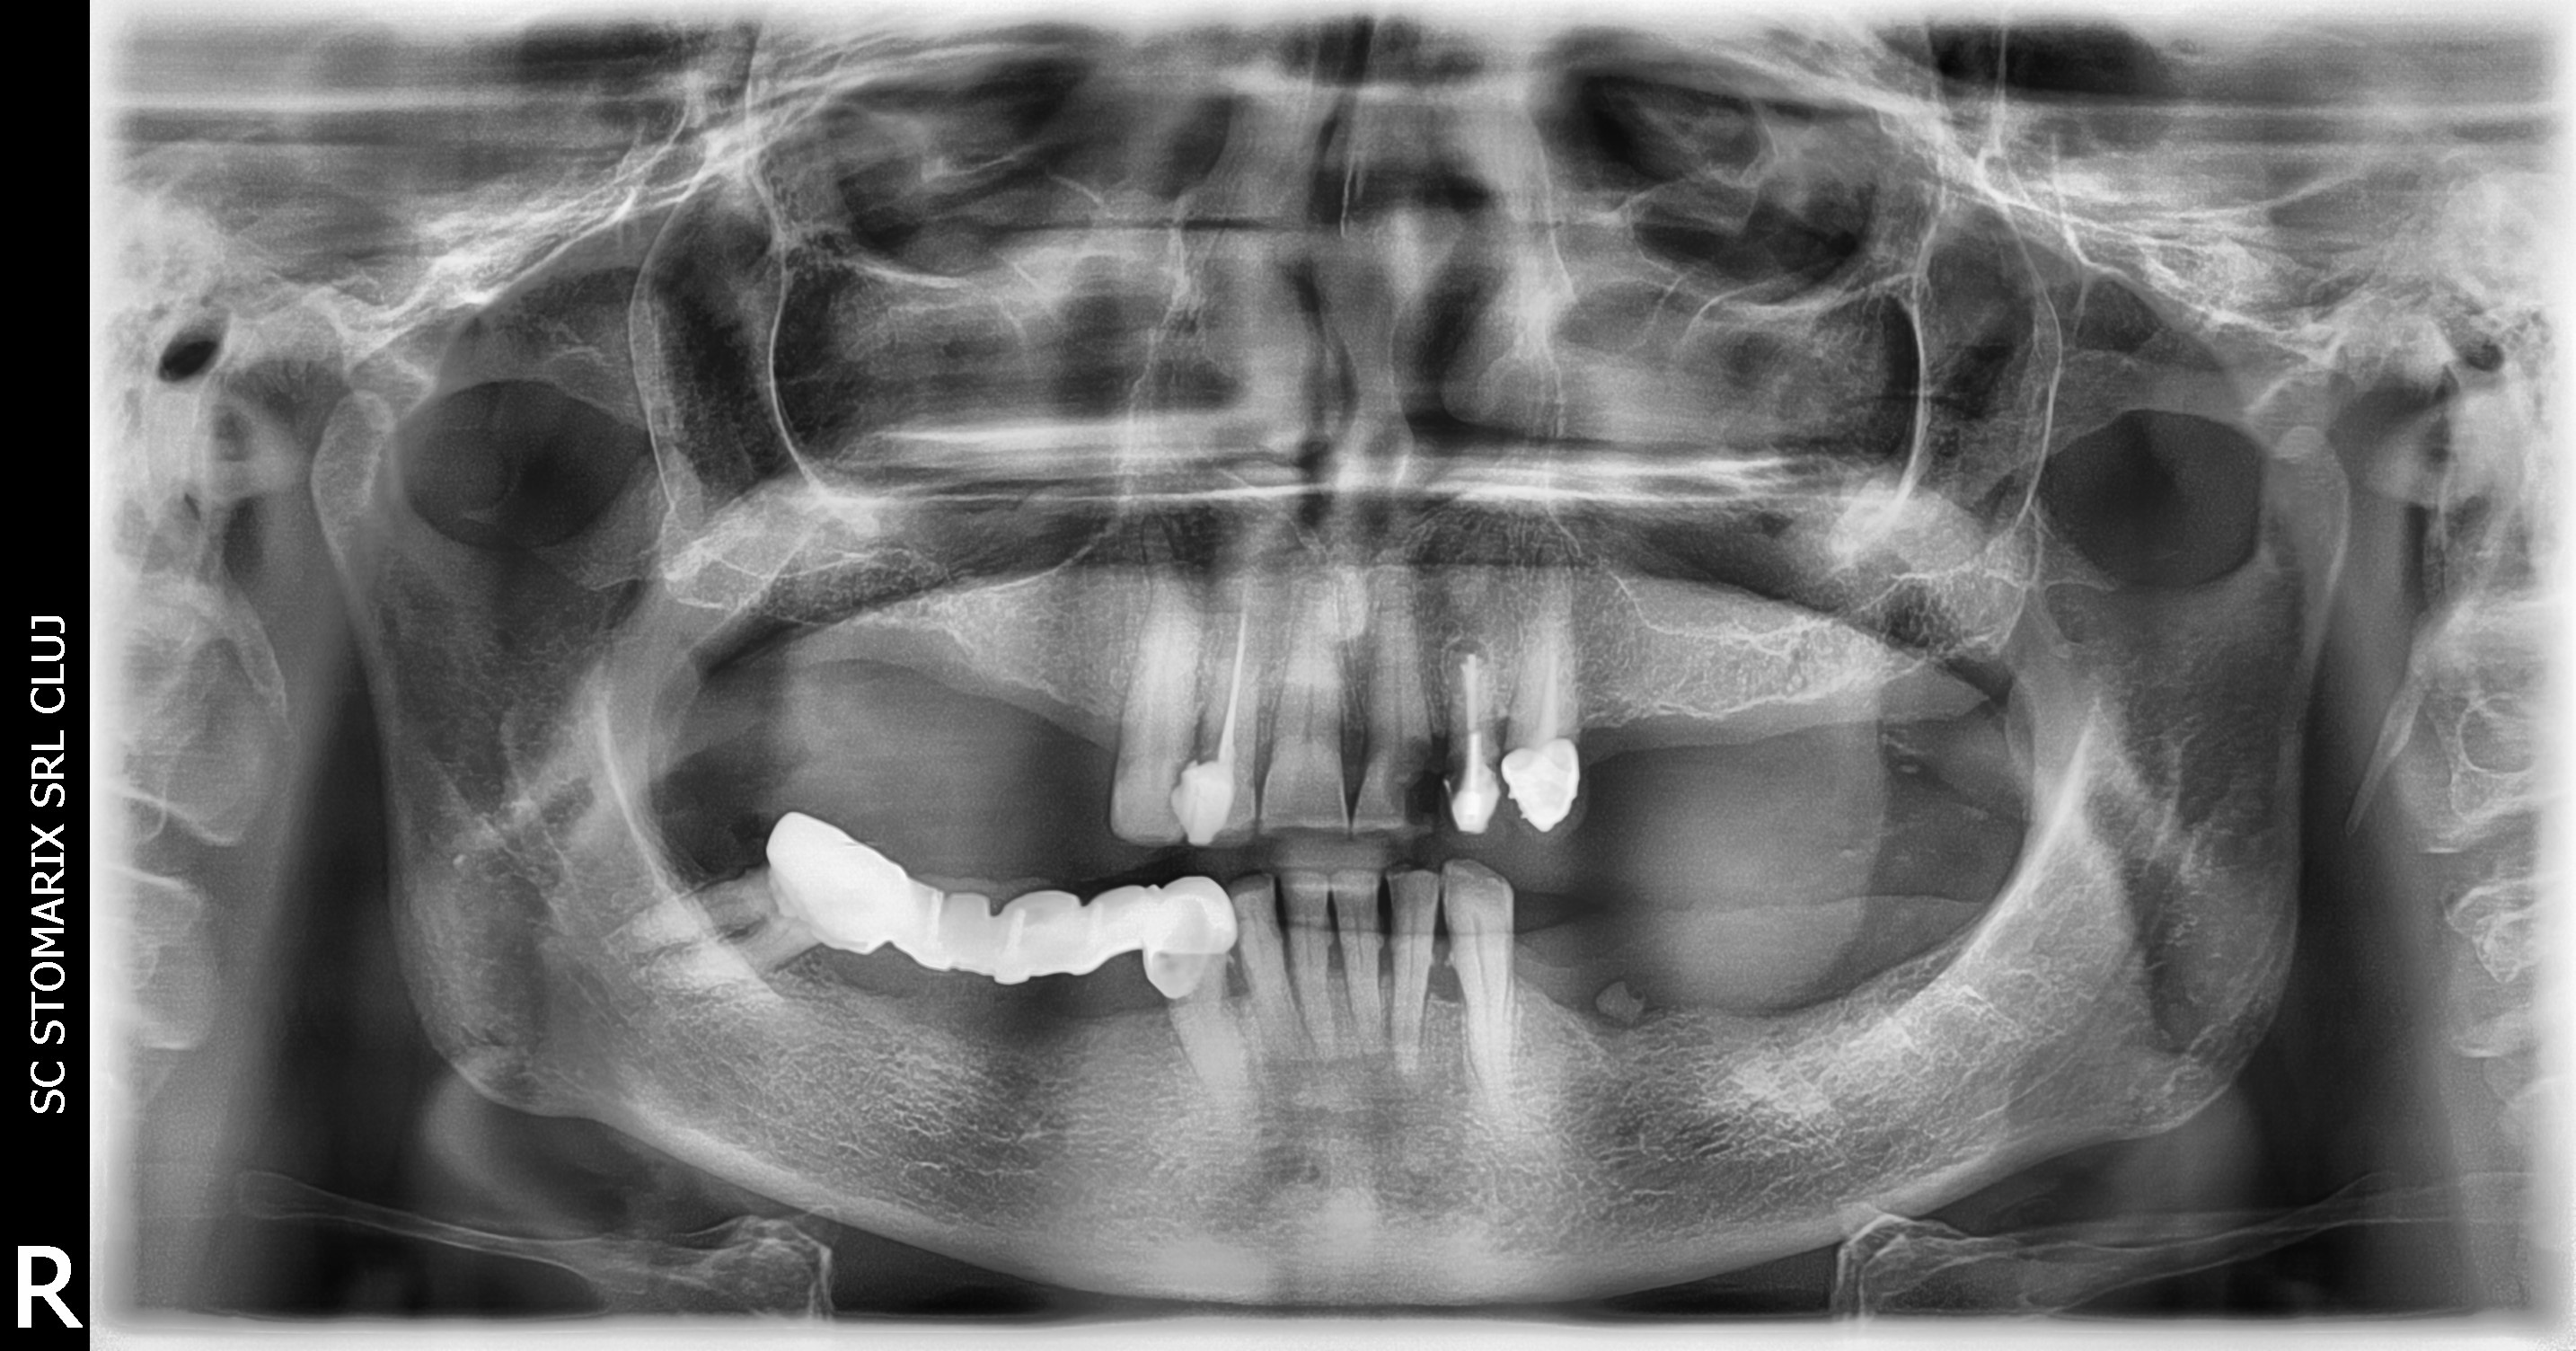APS: (1428, 620, 1509, 683)
BON: (1417, 923, 1481, 1032), (1269, 928, 1310, 1031), (1314, 927, 1358, 1007), (1365, 920, 1400, 1000), (1228, 935, 1249, 1039)
CAR: (1361, 738, 1453, 828), (1423, 755, 1489, 804)
END: (1186, 572, 1264, 767), (1520, 559, 1581, 729), (1450, 649, 1499, 755)
FUR: (673, 900, 794, 961)
OBT: (1150, 746, 1245, 850)
PRR: (743, 782, 1244, 1029), (1499, 739, 1607, 859), (1443, 768, 1508, 859)
ROT: (1554, 946, 1673, 1063)
